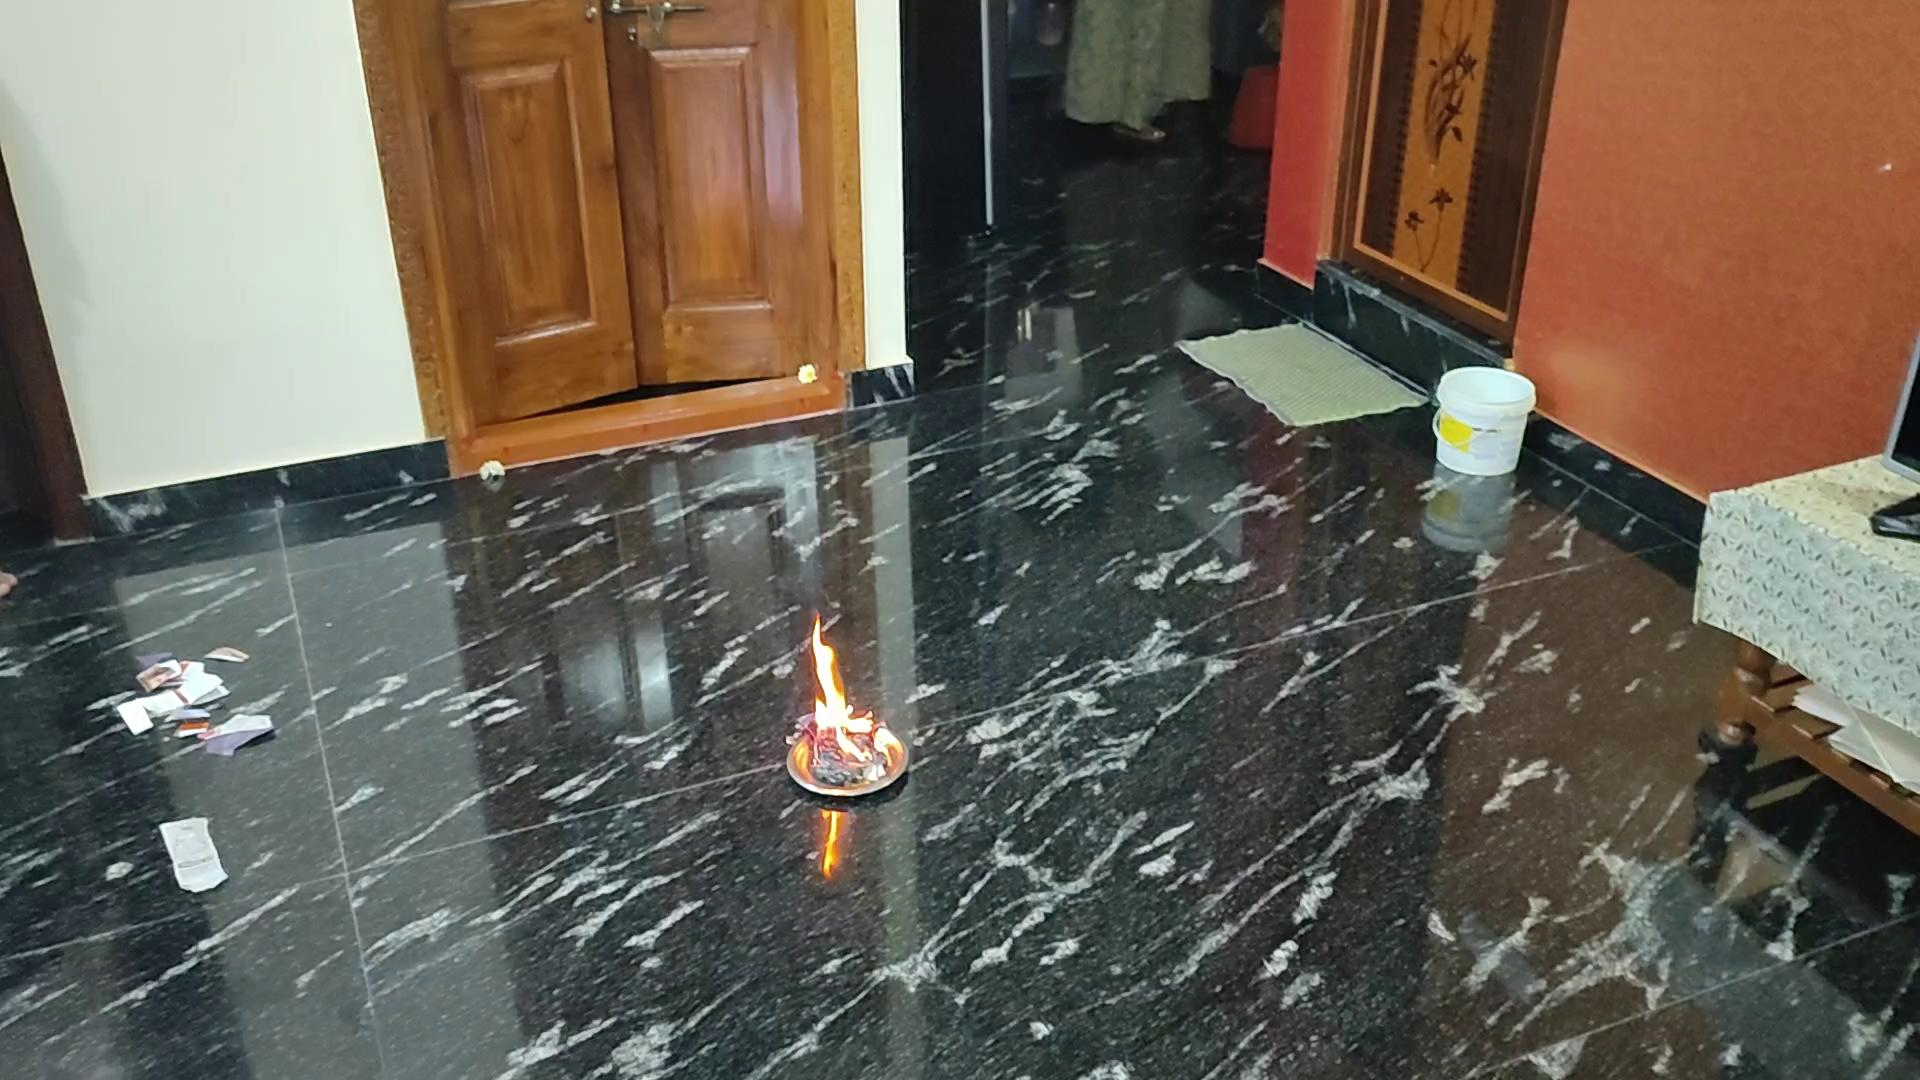Fire: (790, 628, 903, 774)
